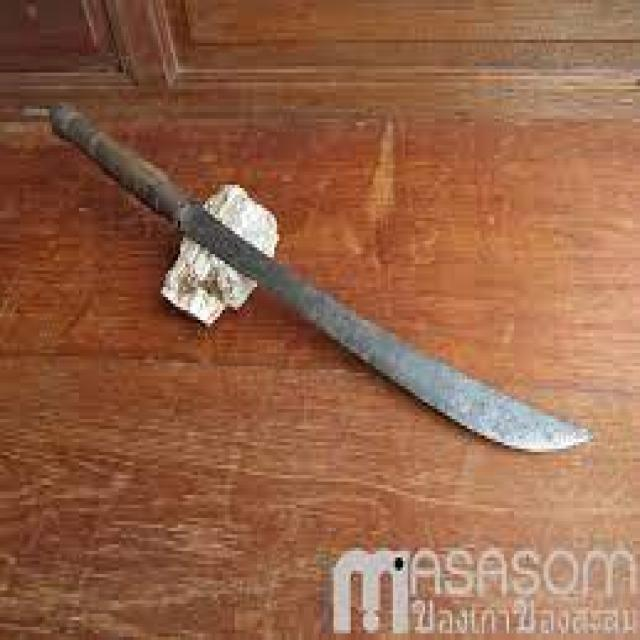long sword: (44, 101, 589, 454)
